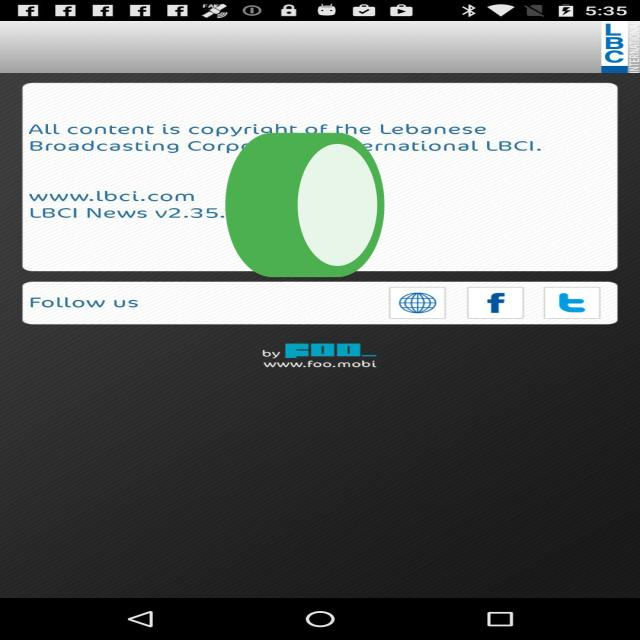social proof: (218, 77, 392, 344)
